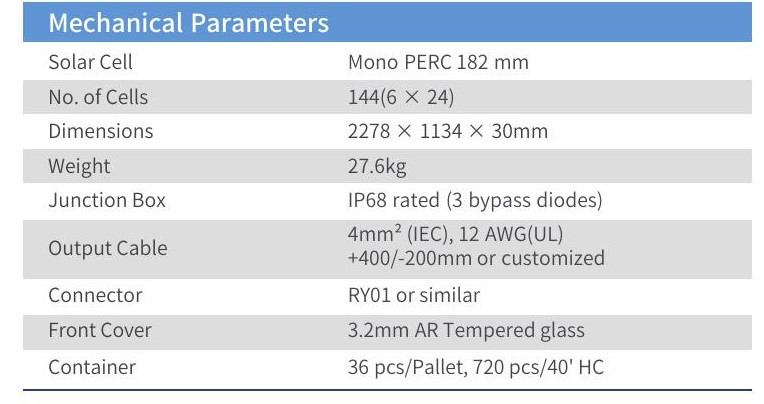table: (9, 33, 764, 398)
table column: (317, 41, 741, 392), (33, 40, 292, 393)
table row: (26, 223, 754, 275), (25, 44, 752, 78), (26, 281, 752, 314), (25, 151, 753, 182), (25, 354, 753, 385), (25, 187, 750, 217), (26, 82, 750, 112), (24, 117, 753, 146), (26, 320, 752, 348)
